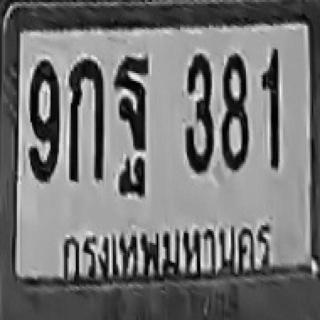A01: (68, 58, 104, 181)
A16: (113, 56, 148, 173), (113, 55, 148, 160)
N01: (261, 49, 280, 160)
N03: (184, 53, 212, 172)
N08: (220, 53, 248, 170)
N09: (28, 59, 60, 182)
P04: (54, 217, 282, 290)
